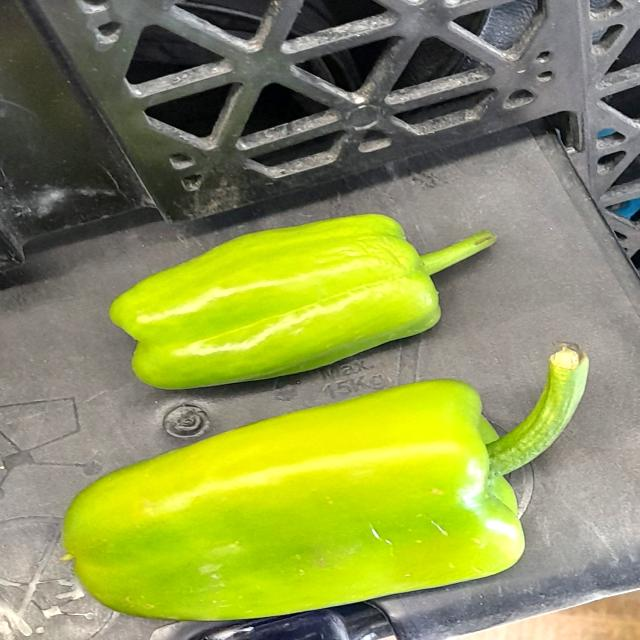bell pepper: (53, 318, 622, 632), (104, 193, 528, 399)
